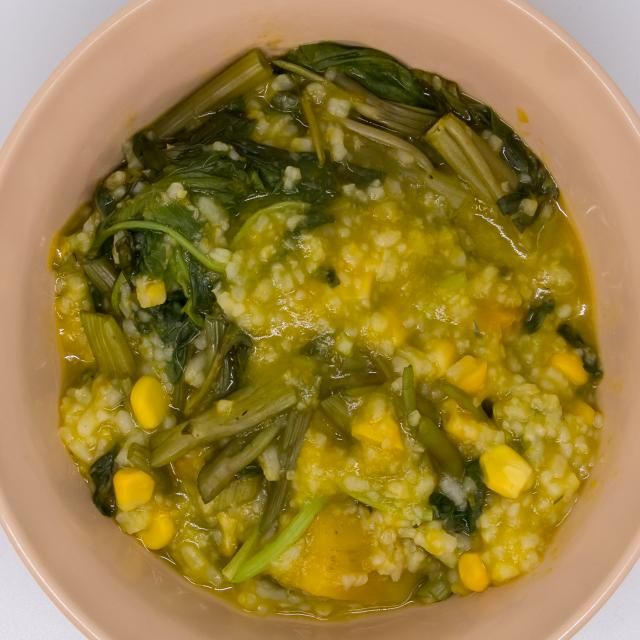Bubur-Manado: (36, 27, 617, 624)
